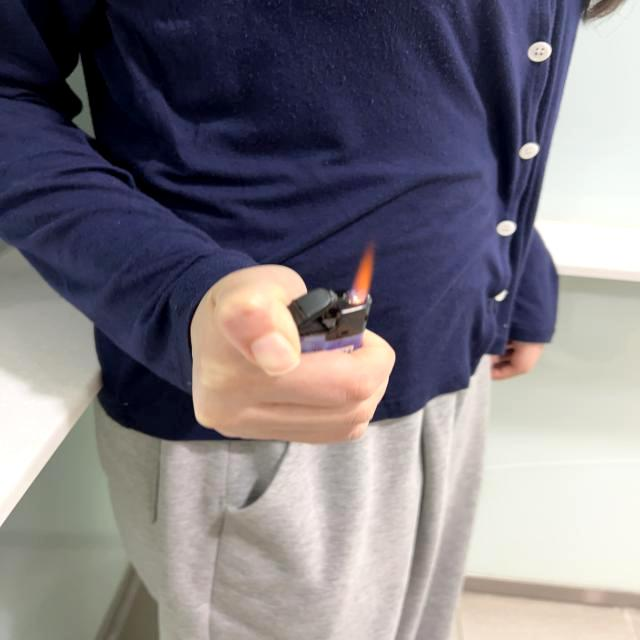fire: (346, 242, 378, 302)
